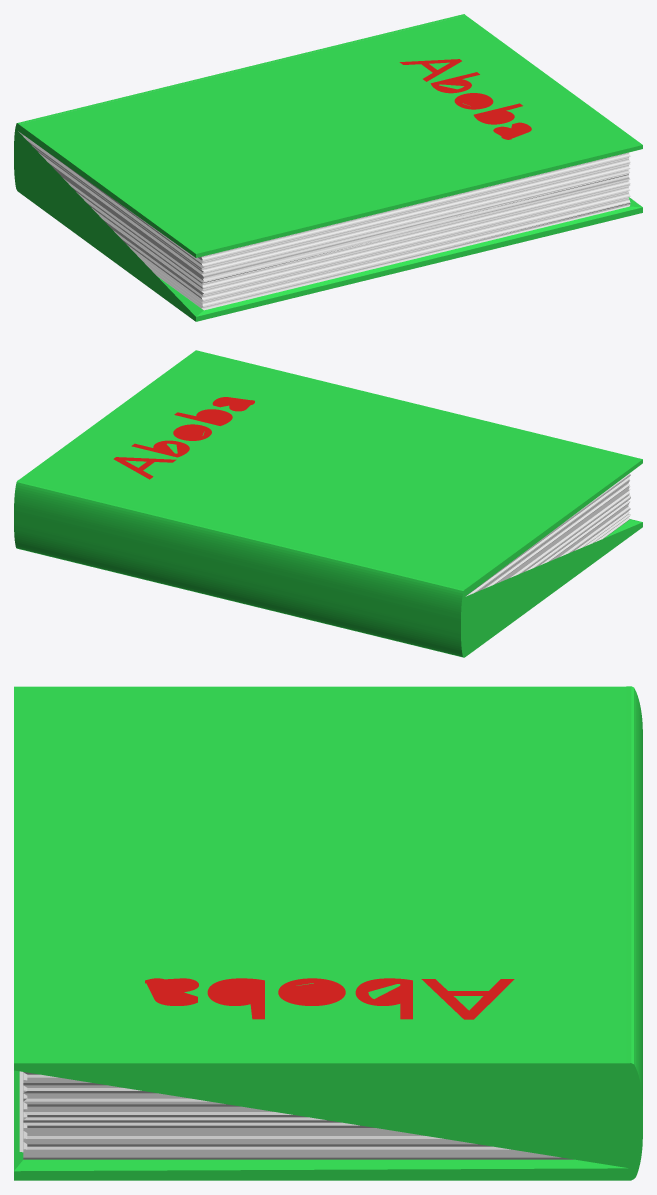
Rendered from Book.fbx.
The picture shows the model from 3 angles, top to bottom: view 1: azimuth 30°, elevation 25°; view 2: azimuth 150°, elevation 25°; view 3: azimuth 270°, elevation 25°; orthographic projection. The views are drawn at different scales.
Visible parts, largest first — view 1: Текст; view 2: Текст; view 3: Текст.
Part boxes in pixels (x1=…): Текст: x1=14, y1=14, x2=642, y2=321; Текст: x1=14, y1=350, x2=642, y2=657; Текст: x1=14, y1=686, x2=642, y2=1180.
Bounding box in the file's own units: 0.344 × 0.2426 × 0.0505.
